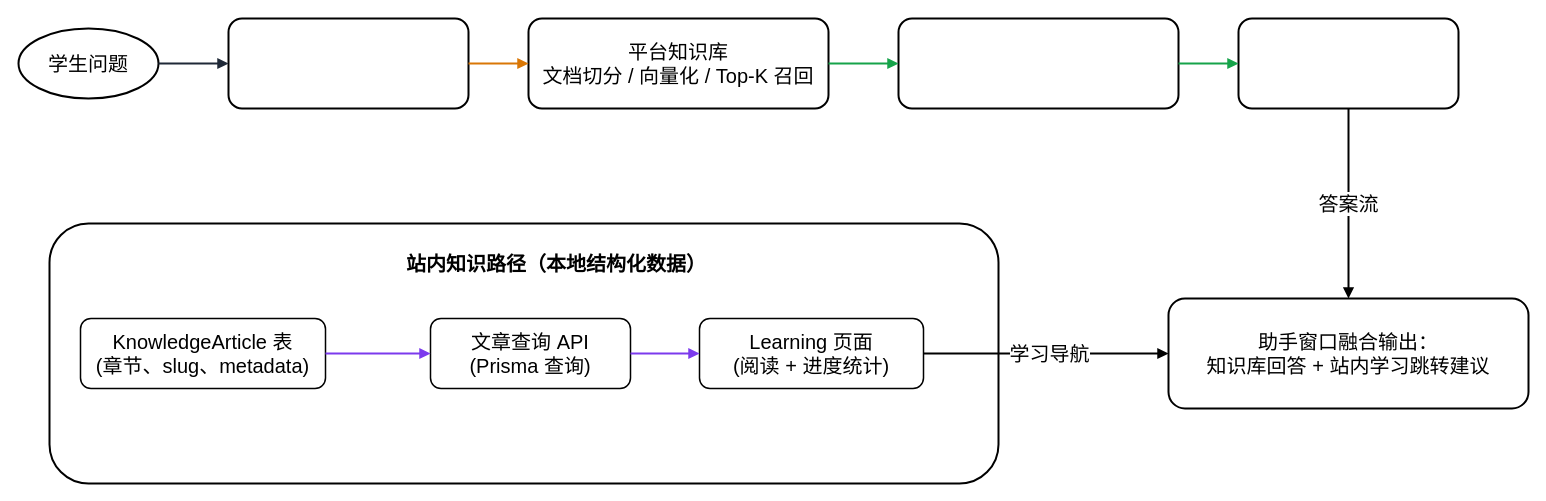
Image size: 1546x501. Some labels were removed from this diagram. Here are the shapes that lost their labels. From the top down, the centre of each, then its label:
At point (348, 63): "Coze Retriever (问题改写 + 召回)".
At point (1038, 63): "Grounded Generation (答案 + 引用上下文)".
At point (1348, 63): "SSE 流式返回答案".
